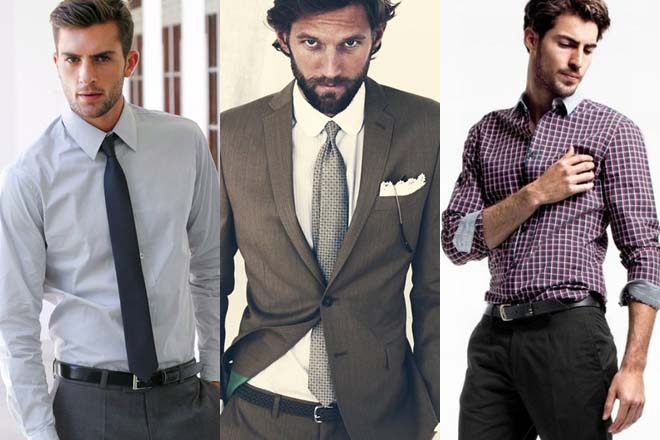F_M_suit jacket: (223, 76, 440, 432)
F_belt: (44, 352, 200, 390), (228, 377, 346, 423), (481, 294, 613, 319)
F_shirt: (12, 100, 221, 397)
F_tie: (97, 137, 170, 383), (311, 122, 351, 272)
